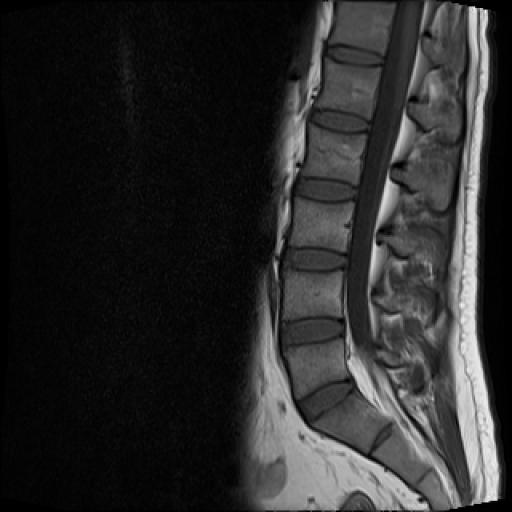L1: (315, 58, 381, 120)
L2: (301, 122, 366, 186)
L3: (289, 196, 354, 252)
L4: (283, 271, 342, 318)
L5: (283, 338, 350, 400)
S1: (312, 391, 390, 454)
